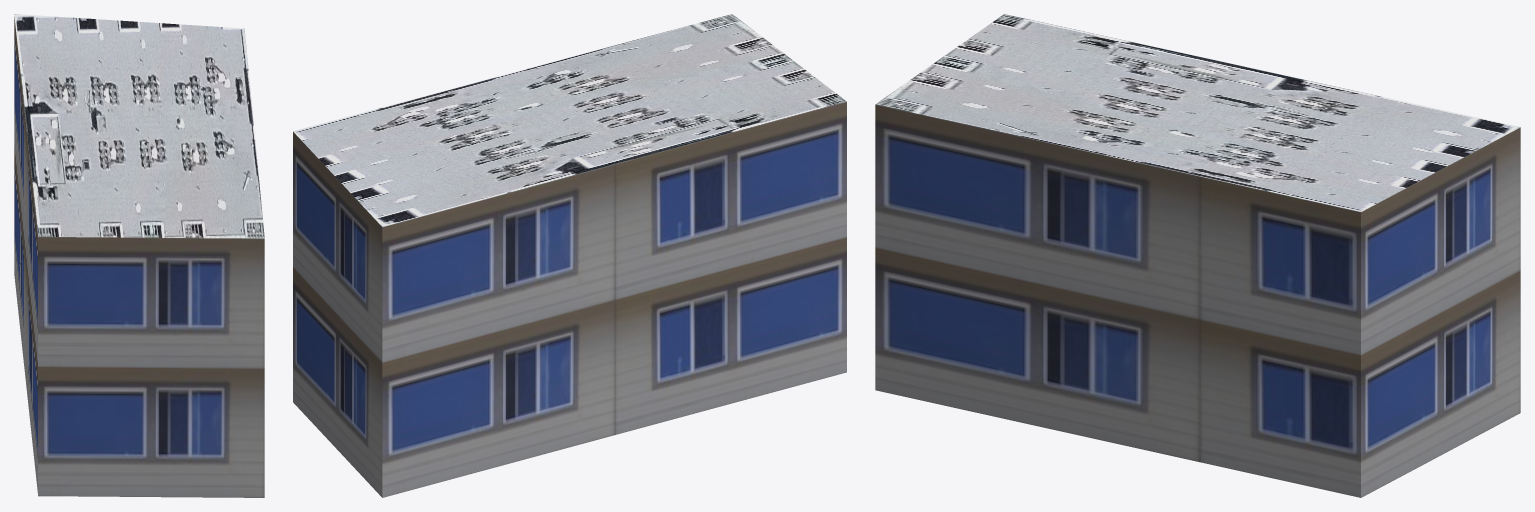
Rendered from ResTex__545.fbx.
3 views of the same model, side by side, from view 1: azimuth 30°, elevation 25°; view 2: azimuth 150°, elevation 25°; view 3: azimuth 270°, elevation 25° (orthographic). The views are drawn at different scales.
Parts seen in each view (by area): view 1: CityEngineMaterial_23_m, CityEngineMaterial_8_m; view 2: CityEngineMaterial_23_m, CityEngineMaterial_8_m; view 3: CityEngineMaterial_23_m, CityEngineMaterial_8_m.
Part boxes in pixels (box(x1,y1,x2,y2)): CityEngineMaterial_23_m: box(14, 17, 264, 497); CityEngineMaterial_8_m: box(14, 14, 264, 238); CityEngineMaterial_23_m: box(293, 101, 846, 497); CityEngineMaterial_8_m: box(293, 14, 846, 226); CityEngineMaterial_23_m: box(875, 104, 1520, 497); CityEngineMaterial_8_m: box(875, 14, 1520, 211).
Size of the model in its own units: 8.92 by 6 by 12.28.
2 materials, 2 textured.
